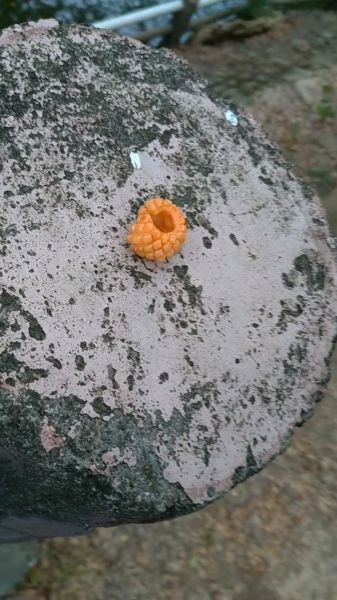eggs: (123, 190, 193, 271)
